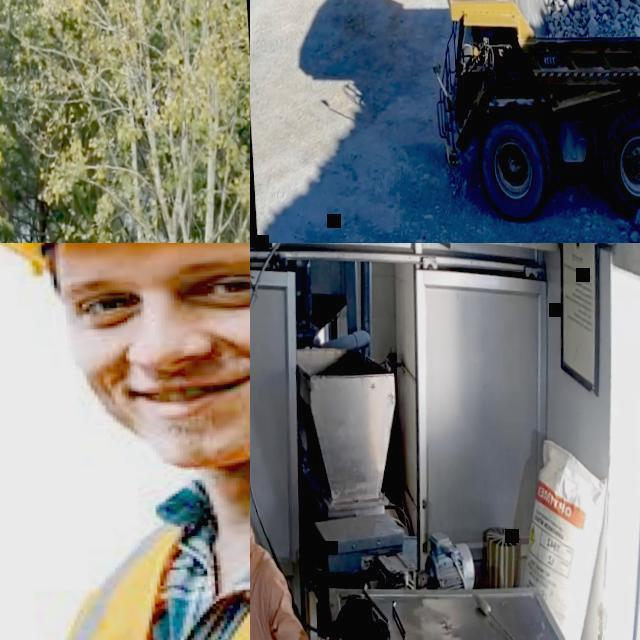machinery: (420, 0, 640, 231)
no_mask: (79, 297, 250, 474)
no_vest: (250, 548, 288, 640)
person: (14, 243, 250, 640), (250, 447, 356, 640)
vest: (33, 411, 250, 640)
